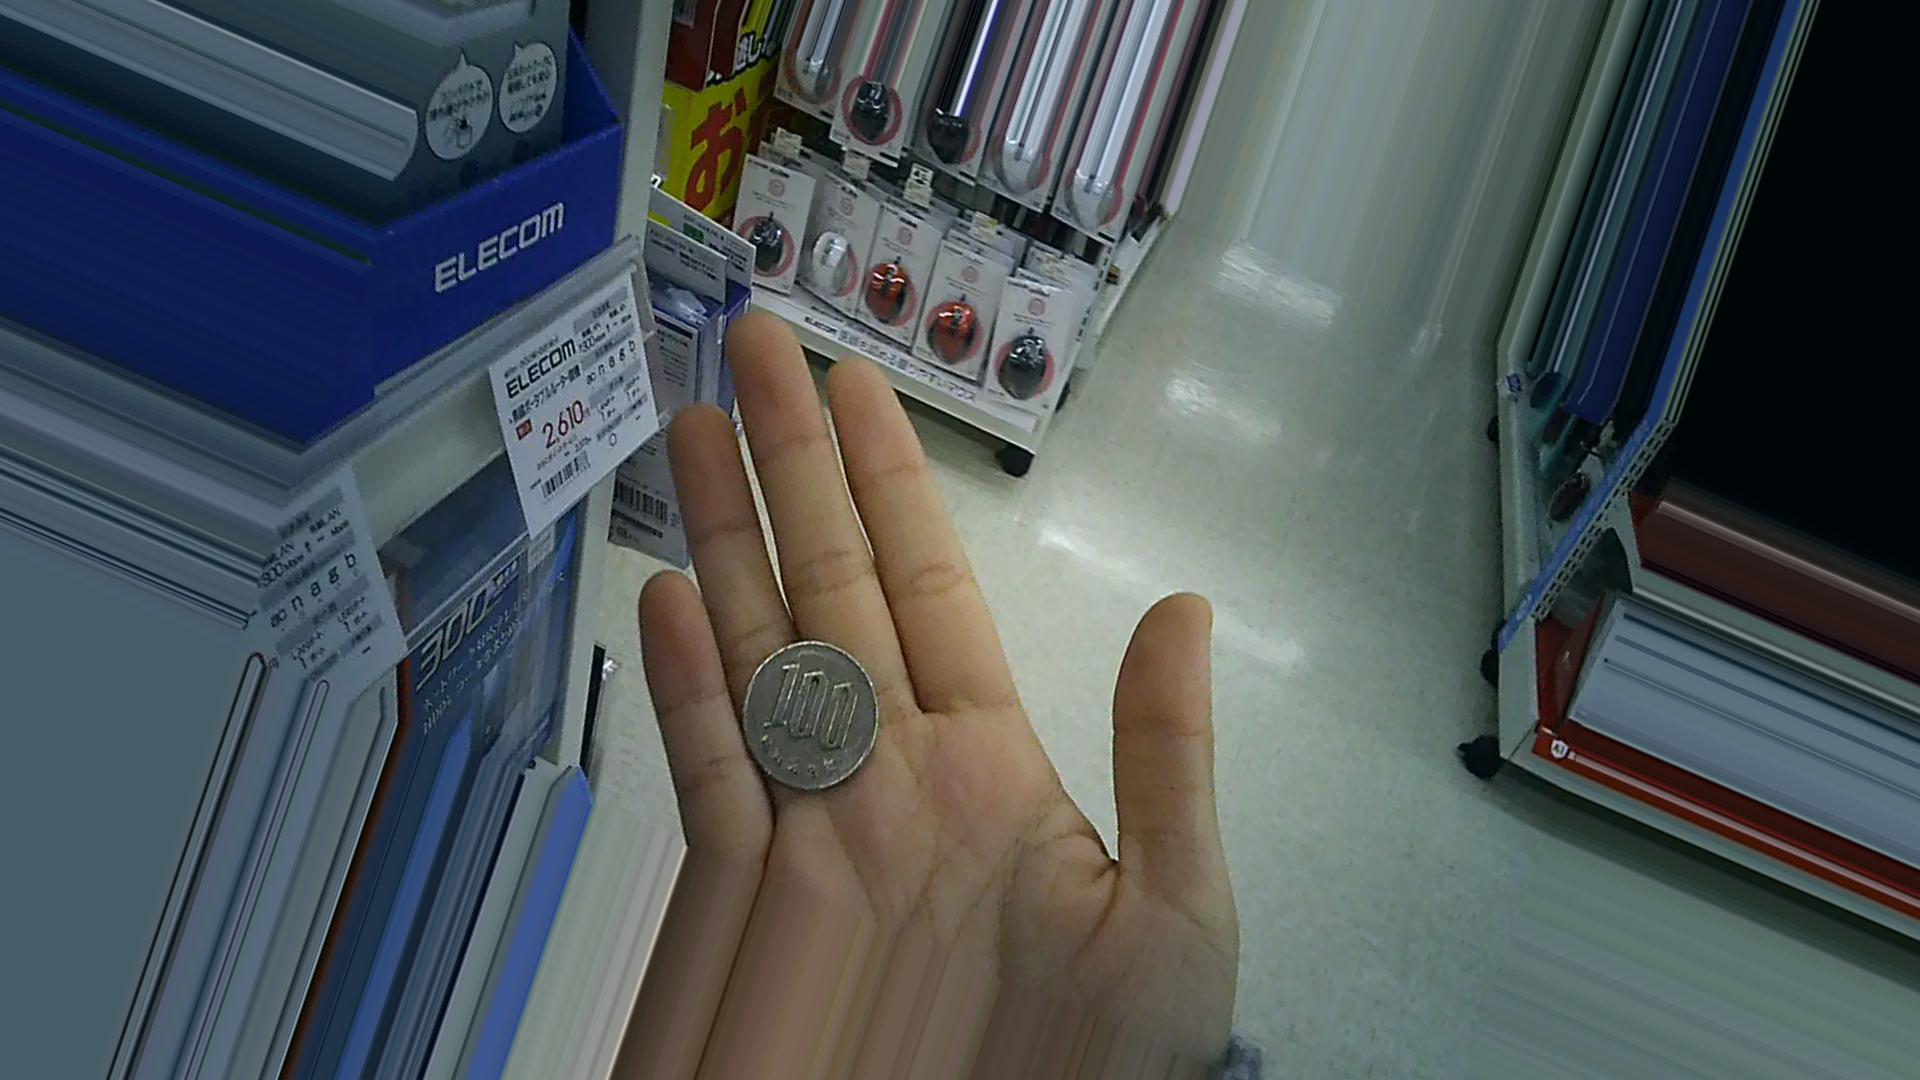100 Yen: (735, 625, 878, 793)
